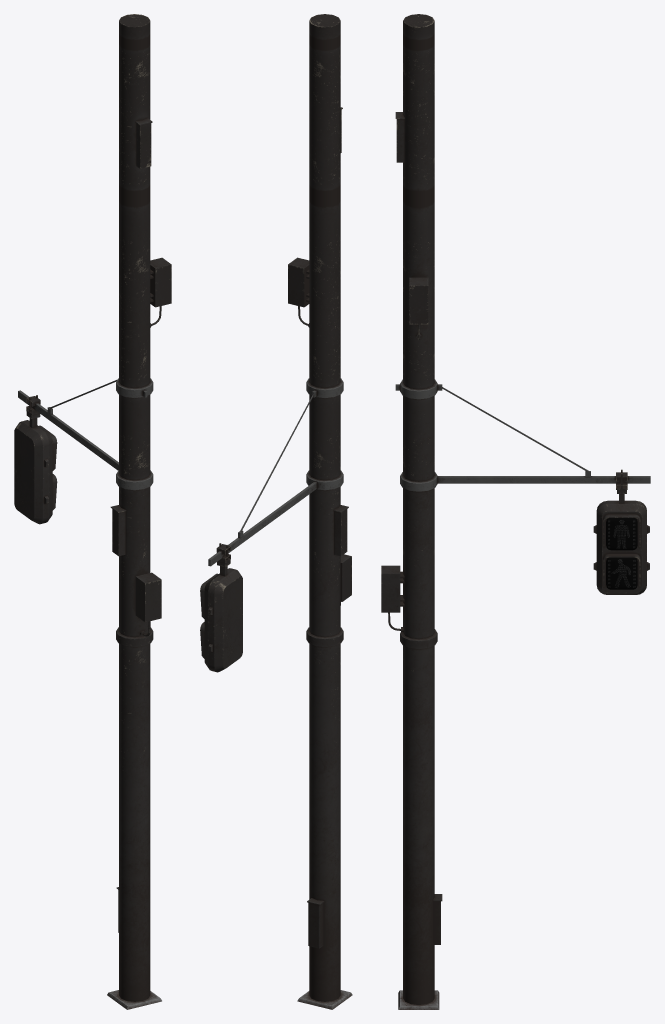
File: jctTrafficLightE.fbx
3 views of the same model, side by side, from view 1: azimuth 30°, elevation 25°; view 2: azimuth 150°, elevation 25°; view 3: azimuth 270°, elevation 25° (orthographic).
Parts seen in each view (by area): view 1: jctTrafficLightE; view 2: jctTrafficLightE; view 3: jctTrafficLightE.
Part boxes in pixels (x1,y1,x2,y2): jctTrafficLightE: (14, 14, 171, 1009); jctTrafficLightE: (200, 14, 352, 1009); jctTrafficLightE: (381, 14, 650, 1009).
Bounding box in the file's own units: 42.29 × 752 × 187.
